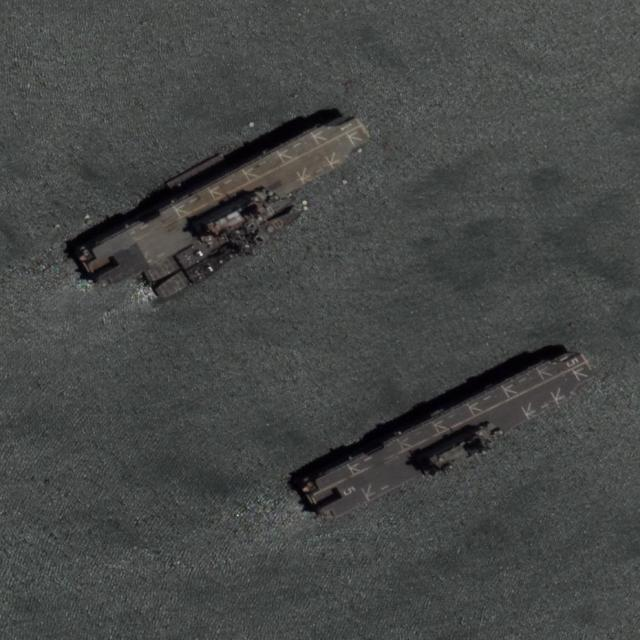Frigate: (141, 192, 301, 286), (151, 206, 310, 299)
Landing: (294, 342, 605, 532), (72, 105, 377, 296)
